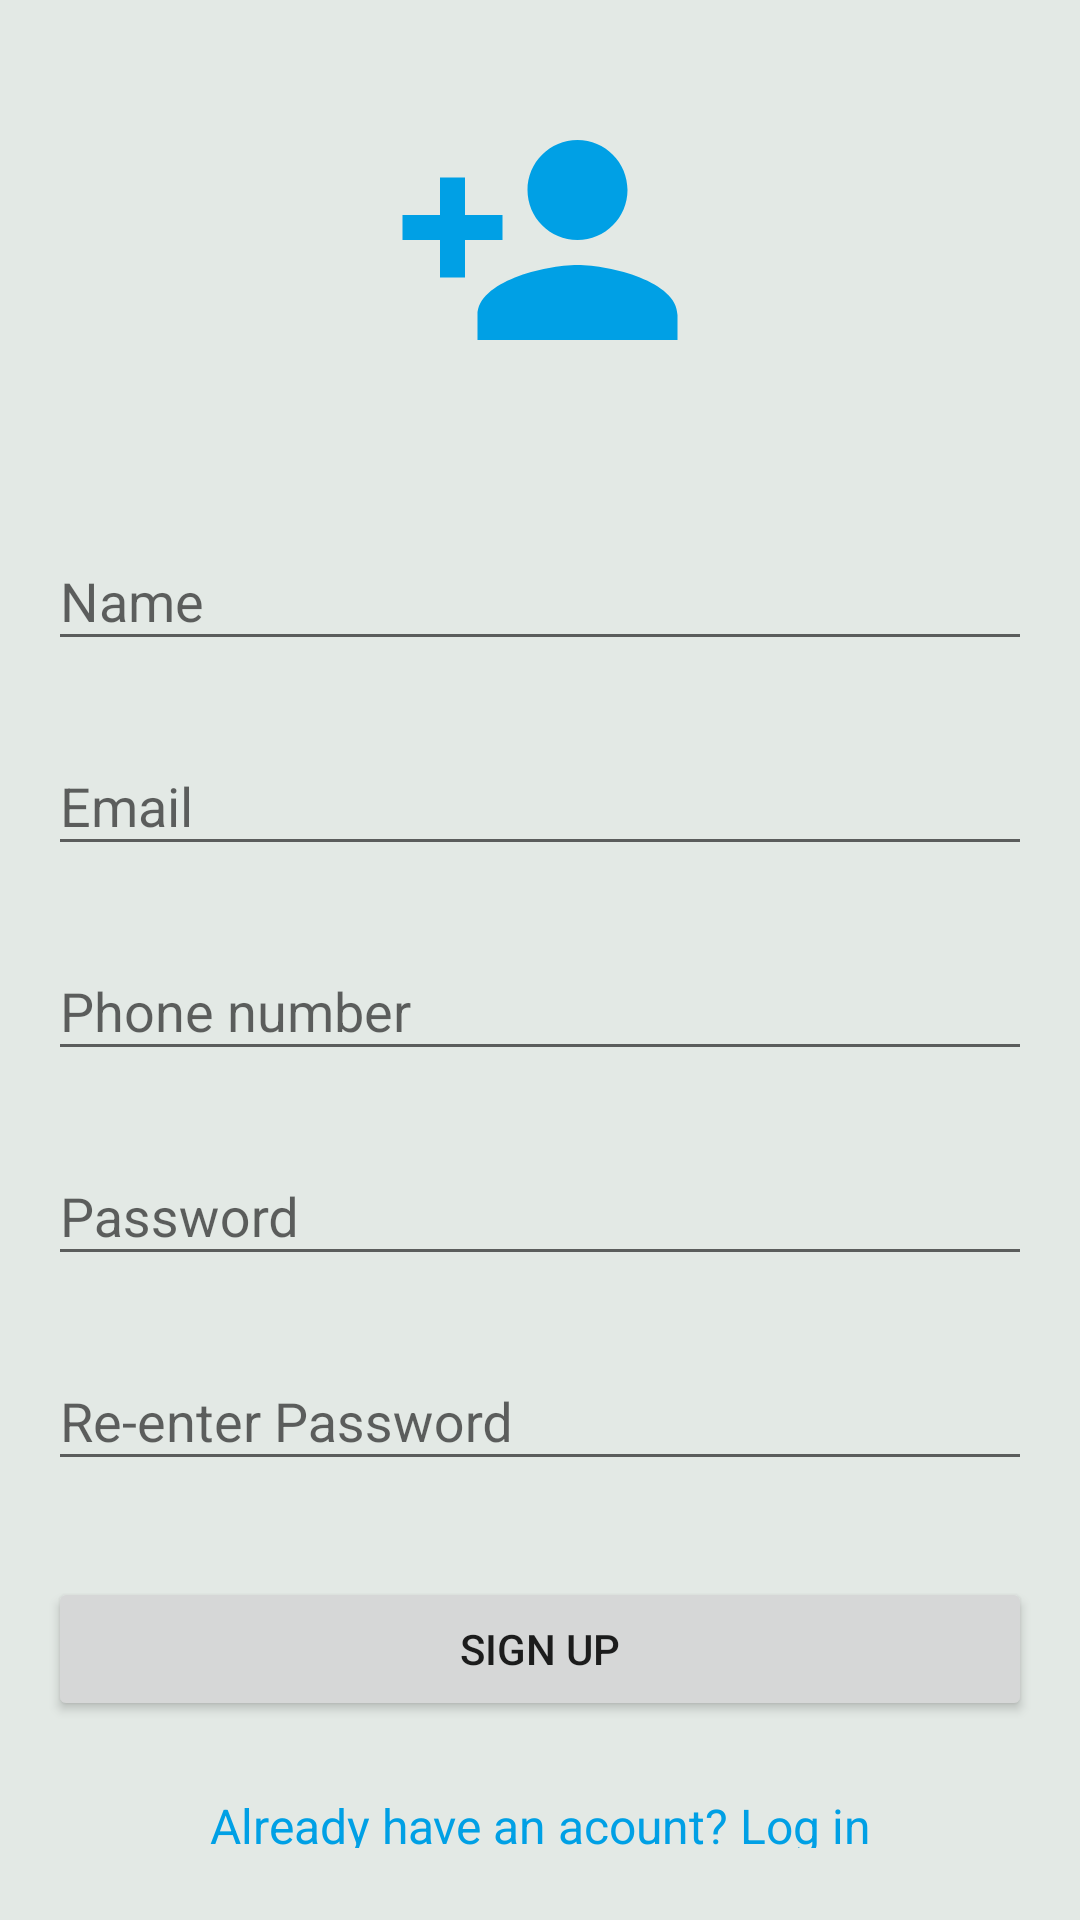

Icon bounding boxes for this 1080px x 1920px phone screenshot, format detection(x1, y1, x2, y2):
newuser: detection(402, 140, 678, 340)
